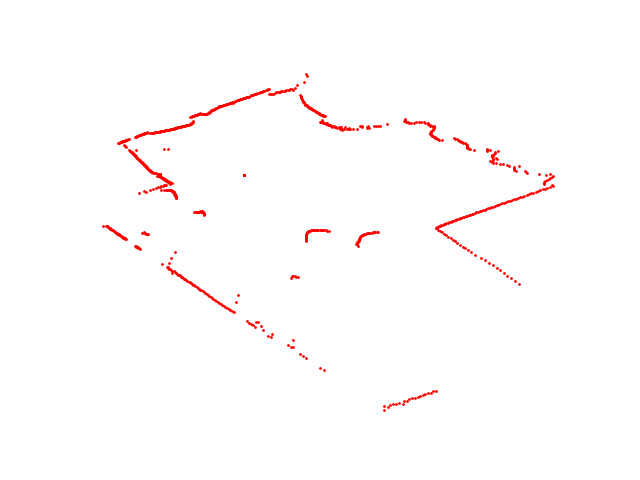person: (304, 227, 382, 250)
